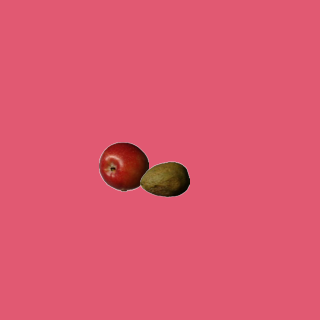Apple Braeburn: (98, 141, 148, 191)
Papaya: (139, 154, 189, 204)
